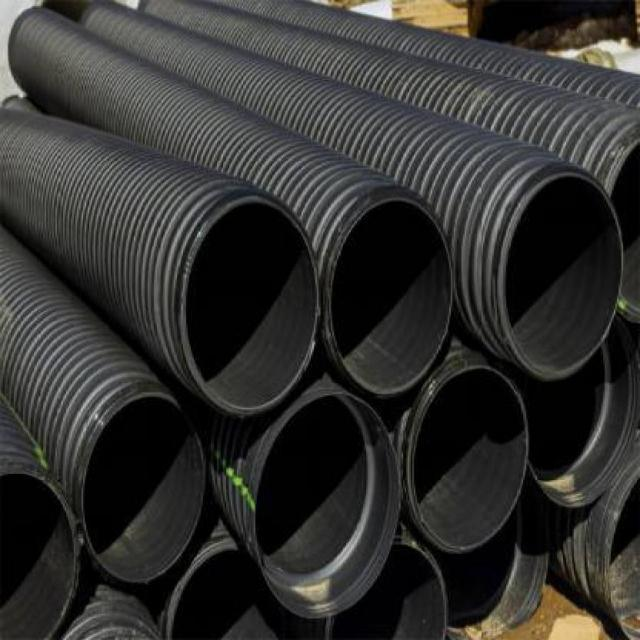pipe: (253, 392, 400, 620), (182, 195, 318, 418), (325, 191, 453, 400), (500, 172, 623, 381), (406, 365, 528, 554), (82, 394, 202, 583), (525, 328, 639, 507)
